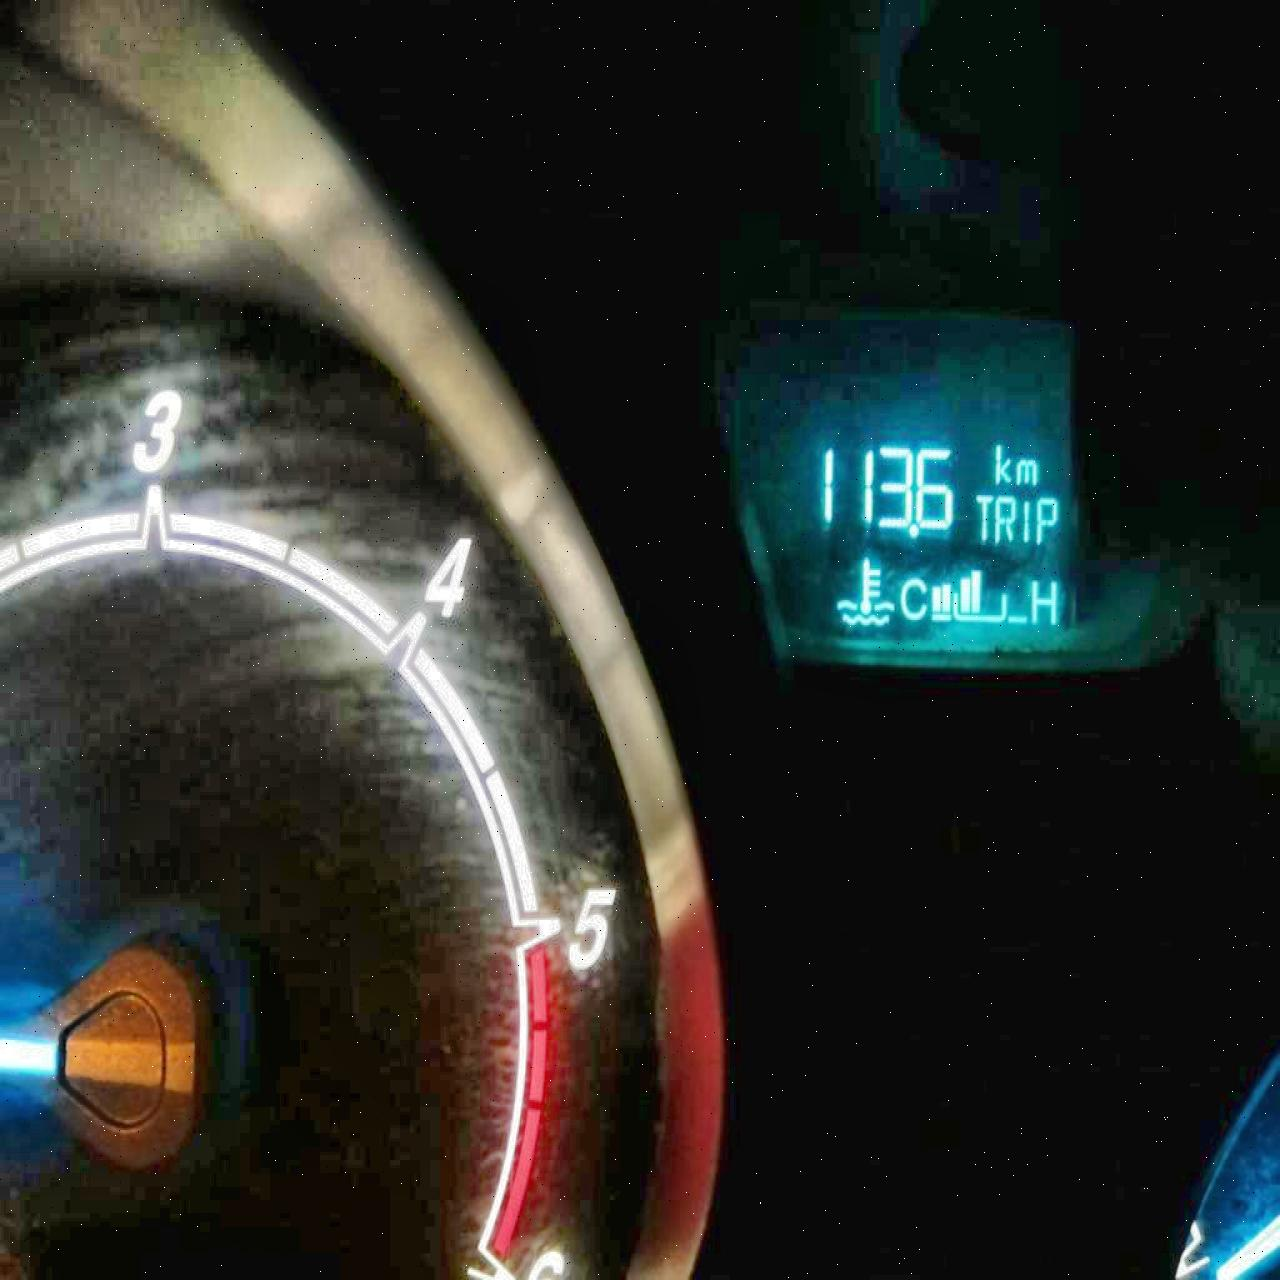-: (907, 522, 919, 538)
1: (817, 442, 837, 526), (857, 445, 874, 525)
3: (877, 442, 912, 529)
6: (914, 443, 954, 530)
X: (1028, 576, 1057, 625), (898, 573, 927, 621), (1034, 493, 1057, 545), (994, 493, 1016, 545), (973, 490, 994, 542), (993, 440, 1012, 485), (1014, 455, 1037, 485), (1019, 497, 1032, 543)
odometer: (757, 393, 1175, 704)
